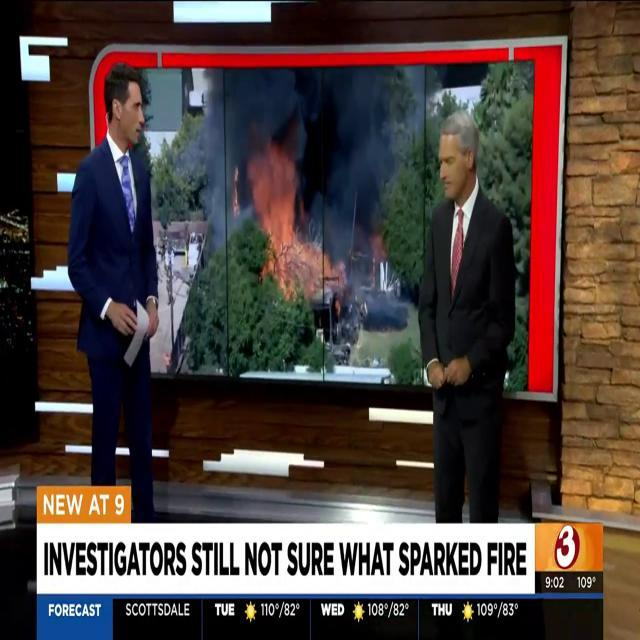Fire: (244, 136, 330, 309)
Smoke: (199, 67, 406, 276)
